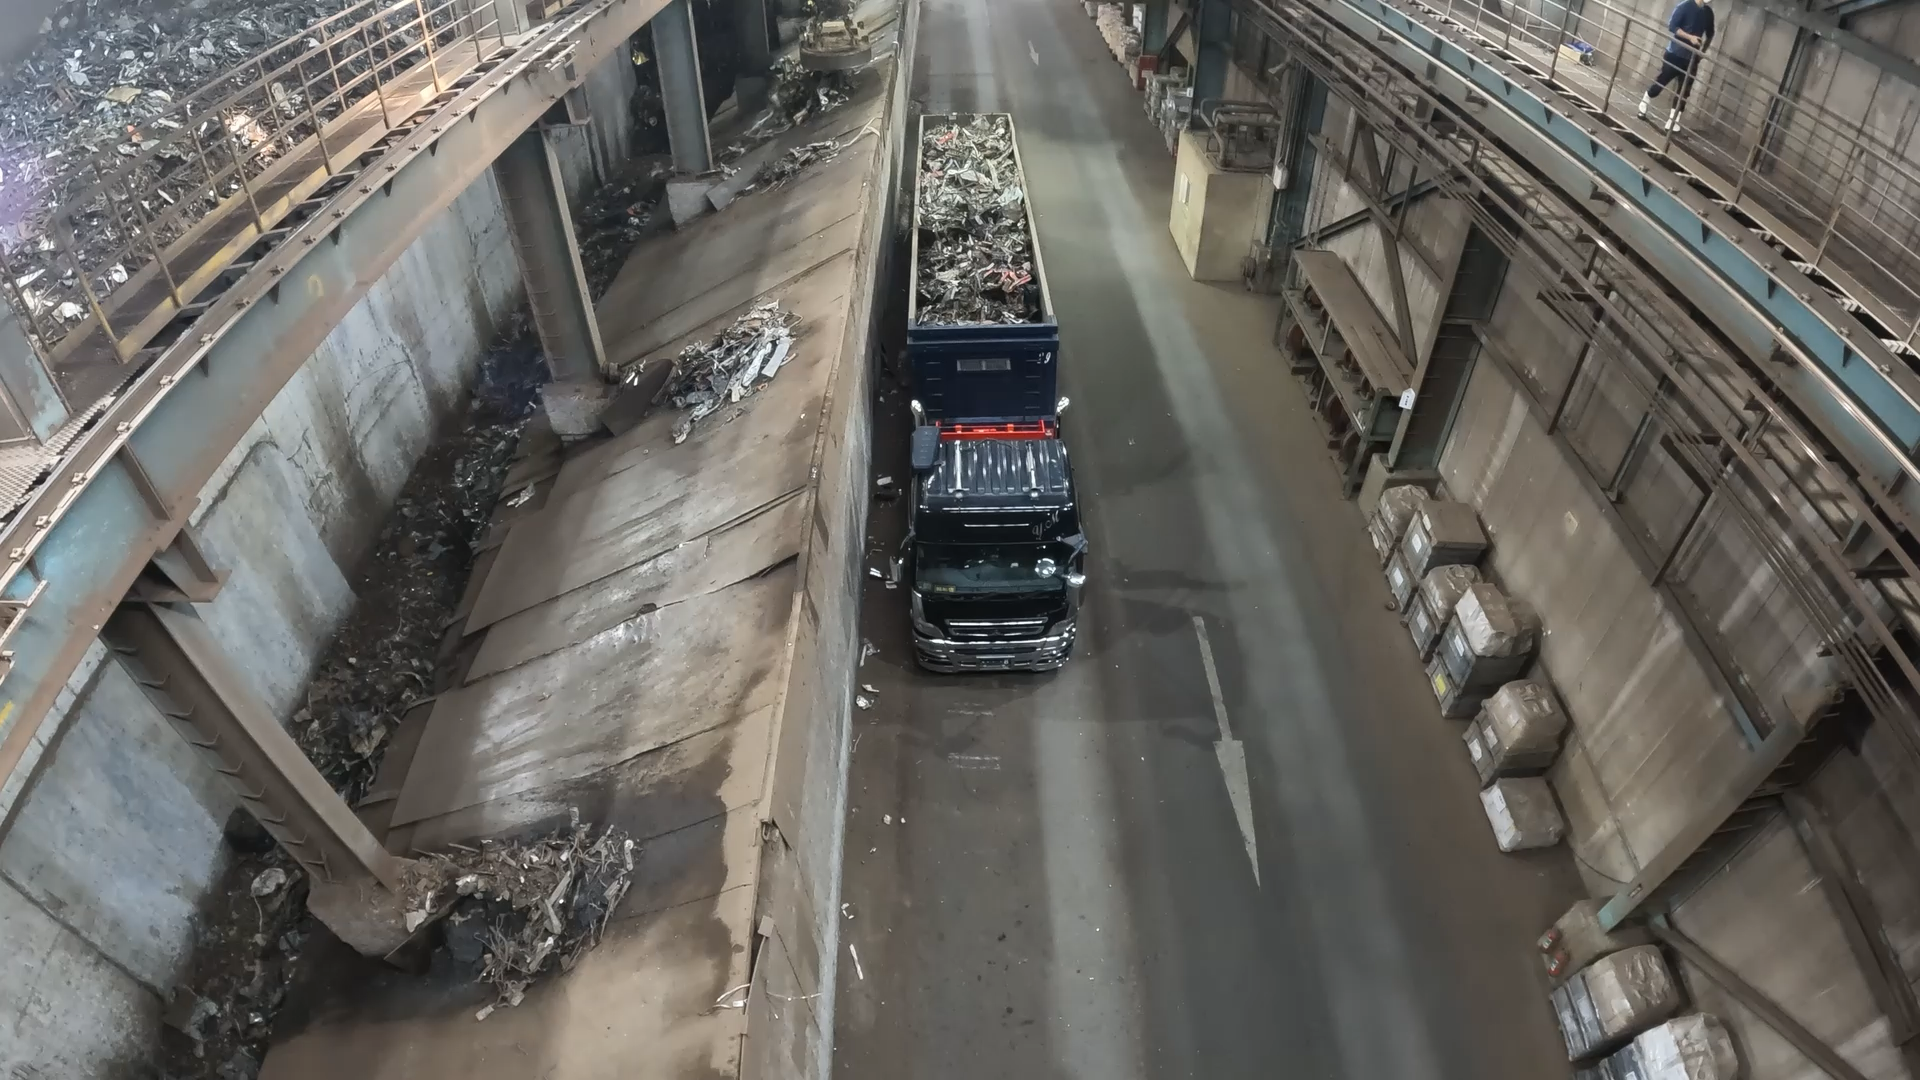truck: (911, 113, 1052, 328)
